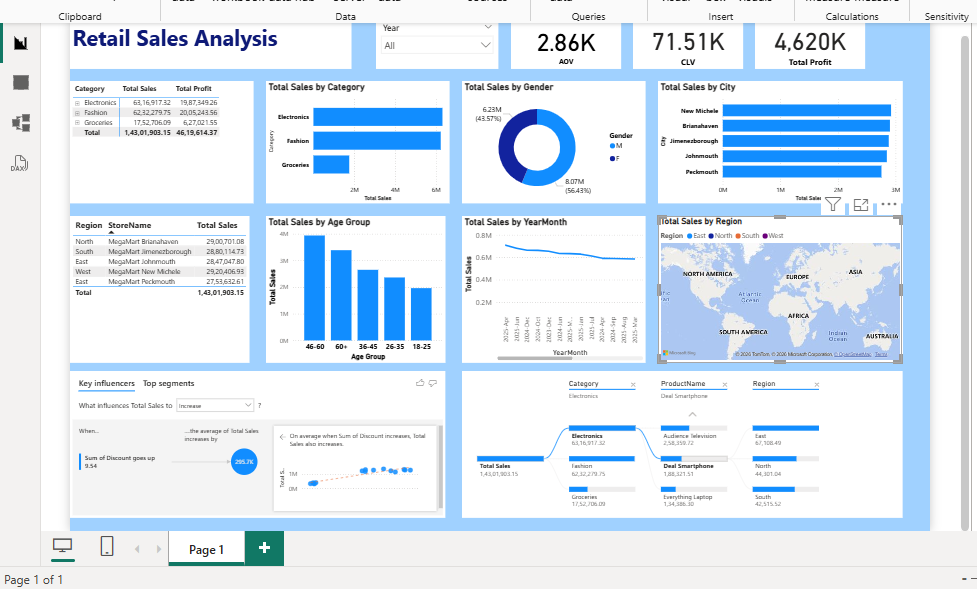

What the dashboard file says about the page in this screenshot:
{"tool":"powerbi","page":{"name":"Page 1","canvas":[1686,1001],"ordinal":0},"visuals":[{"type":"barChart","fields":{"Category":["Products.Category"],"Y":["Transactions.Total Sales"]},"box":[384,120,360,240],"z":0},{"type":"pivotTable","fields":{"Values":["Transactions.Total Sales","Transactions.Total Profit"],"Rows":["Products.Category","Products.ProductName"]},"box":[0,120,360,240],"z":1000},{"type":"card","fields":{"Values":["Transactions.Total Profit"]},"box":[1344,0,216,96],"z":2000},{"type":"slicer","fields":{"Values":["DateTable.Year"]},"box":[600,0,240,96],"z":3000},{"type":"lineChart","fields":{"Category":["DateTable.YearMonth"],"Y":["Transactions.Total Sales"]},"box":[768,384,360,288],"z":4000},{"type":"barChart","fields":{"Category":["Stores.City"],"Y":["Transactions.Total Sales"]},"box":[1152,120,480,240],"z":5000},{"type":"map","fields":{"Series":["Stores.Region"],"Size":["Transactions.Total Sales"]},"box":[1152,384,480,288],"z":6000},{"type":"tableEx","fields":{"Values":["Stores.Region","Stores.StoreName","Transactions.Total Sales"]},"box":[0,384,352,288],"z":7000},{"type":"donutChart","fields":{"Category":["Customers.Gender"],"Y":["Transactions.Total Sales"]},"box":[768,120,360,240],"z":8000},{"type":"columnChart","fields":{"Category":["Customers.Age Group"],"Y":["Transactions.Total Sales"]},"box":[384,384,352,288],"z":9000},{"type":"card","fields":{"Values":["Transactions.AOV"]},"box":[864,0,216,96],"z":10000},{"type":"card","fields":{"Values":["Transactions.CLV"]},"box":[1104,0,216,96],"z":11000},{"type":"textbox","box":[0,0,552,96],"z":12000},{"type":"keyDriversVisual","fields":{"Target":["Transactions.Total Sales"],"ExplainBy":["Stores.Region","Products.Category","Sum(Transactions.Discount)","Stores.City"]},"box":[0,688,736,288],"z":13000},{"type":"decompositionTreeVisual","fields":{"Analyze":["Transactions.Total Sales"],"ExplainBy":["Products.Category","Products.ProductName","Stores.Region"]},"box":[768,688,864,288],"z":14000}]}

Visuals, with their boxes on the page's 1686x1001 design canvas (x1, y1, x2, y2). These are canvas units, not pixel positions in the 977x589 screenshot, which may show the page scaled, cropped or inside an application window:
barChart - Products.Category x Transactions.Total Sales: l=384, t=120, r=744, b=360
pivotTable - Transactions.Total Sales x Transactions.Total Profit: l=0, t=120, r=360, b=360
card - Transactions.Total Profit: l=1344, t=0, r=1560, b=96
slicer - DateTable.Year: l=600, t=0, r=840, b=96
lineChart - DateTable.YearMonth x Transactions.Total Sales: l=768, t=384, r=1128, b=672
barChart - Stores.City x Transactions.Total Sales: l=1152, t=120, r=1632, b=360
map - Stores.Region x Transactions.Total Sales: l=1152, t=384, r=1632, b=672
tableEx - Stores.Region x Stores.StoreName: l=0, t=384, r=352, b=672
donutChart - Customers.Gender x Transactions.Total Sales: l=768, t=120, r=1128, b=360
columnChart - Customers.Age Group x Transactions.Total Sales: l=384, t=384, r=736, b=672
card - Transactions.AOV: l=864, t=0, r=1080, b=96
card - Transactions.CLV: l=1104, t=0, r=1320, b=96
textbox: l=0, t=0, r=552, b=96
keyDriversVisual - Transactions.Total Sales x Stores.Region: l=0, t=688, r=736, b=976
decompositionTreeVisual - Transactions.Total Sales x Products.Category: l=768, t=688, r=1632, b=976
